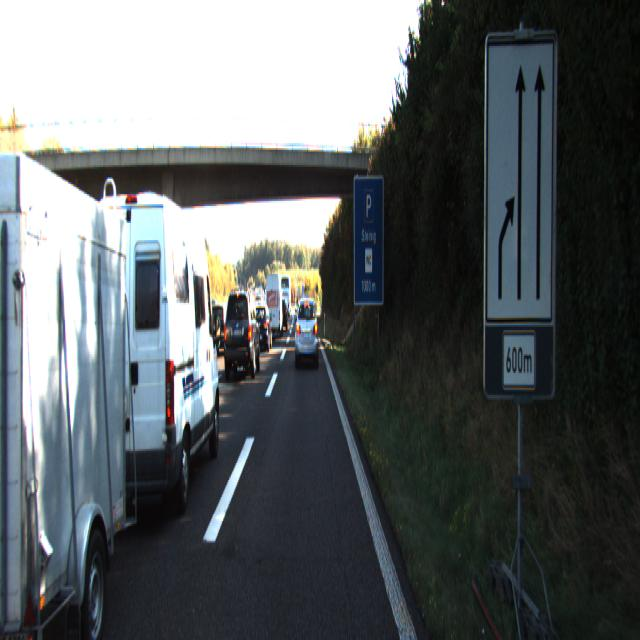Car: (0, 146, 144, 638), (87, 192, 223, 534), (223, 289, 261, 383), (294, 294, 318, 365), (210, 308, 238, 361), (264, 271, 284, 337), (252, 302, 272, 352)
